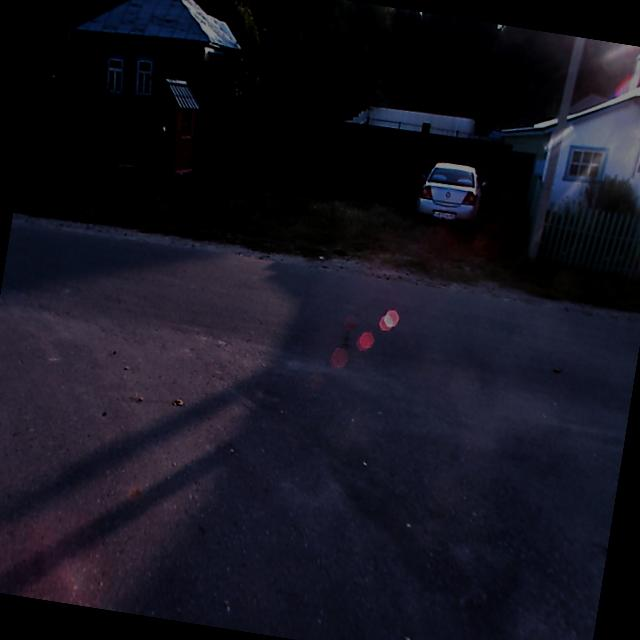road: (0, 224, 640, 640)
